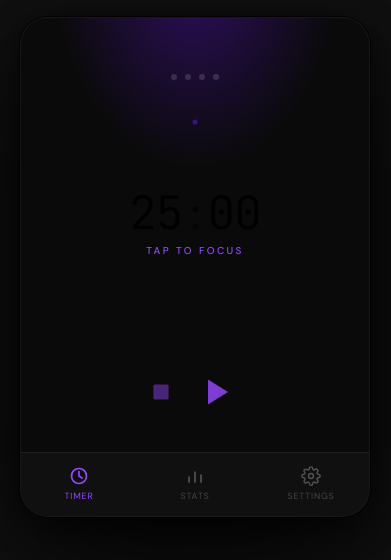
Test case: ring interaction › ring button relabels to "Pause focus" while running
Step 1. Click the button with aria-label "start focus" → (195, 224), box [85, 114, 305, 334]
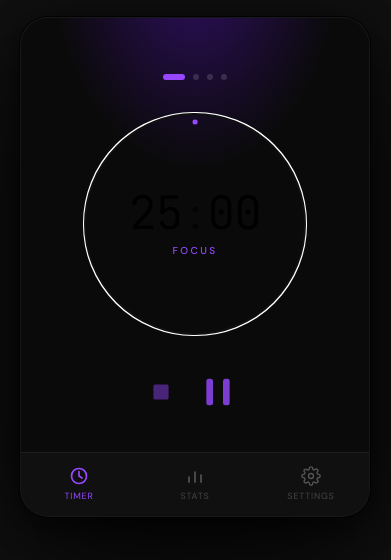
Expected: the button with aria-label "pause focus" is shown, [85, 114, 305, 334]
